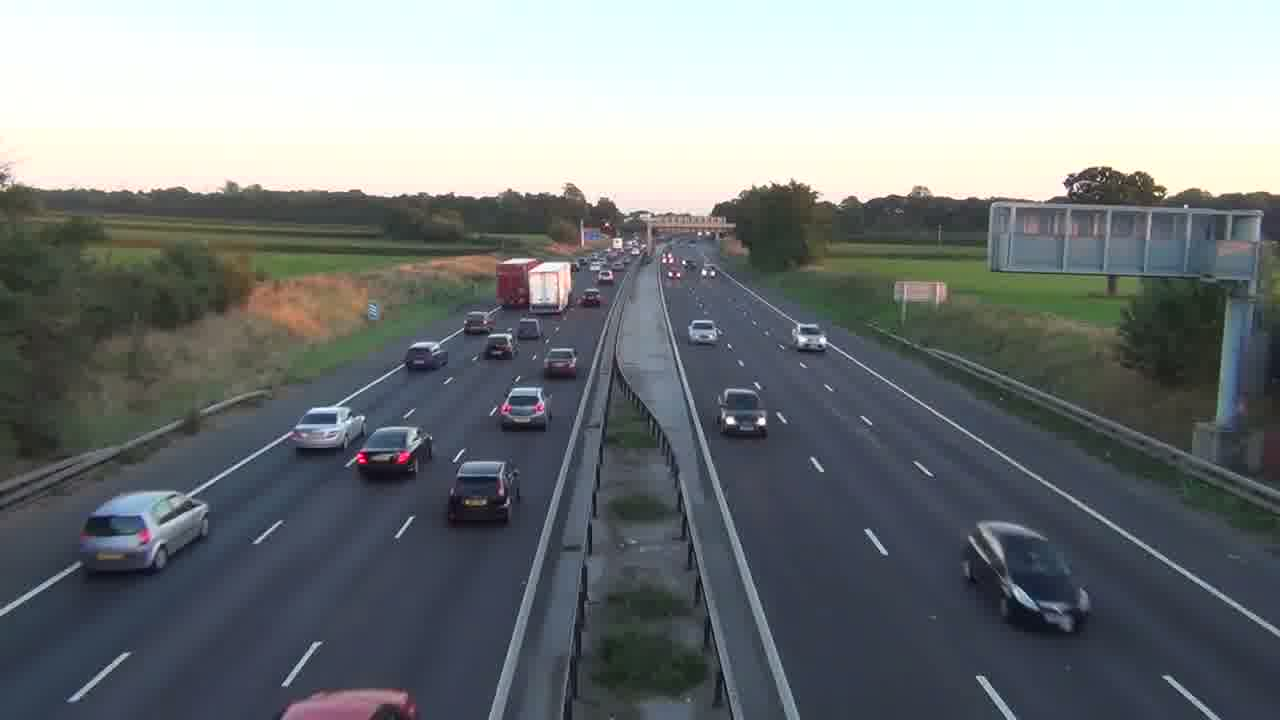car: (961, 519, 1092, 634), (78, 490, 211, 575), (446, 458, 521, 525), (279, 687, 419, 720), (347, 425, 434, 477), (287, 406, 367, 451), (715, 387, 769, 439), (493, 384, 549, 431), (404, 341, 447, 371), (543, 347, 577, 379), (687, 319, 723, 347), (483, 332, 516, 359)
truck: (961, 519, 1092, 634)
